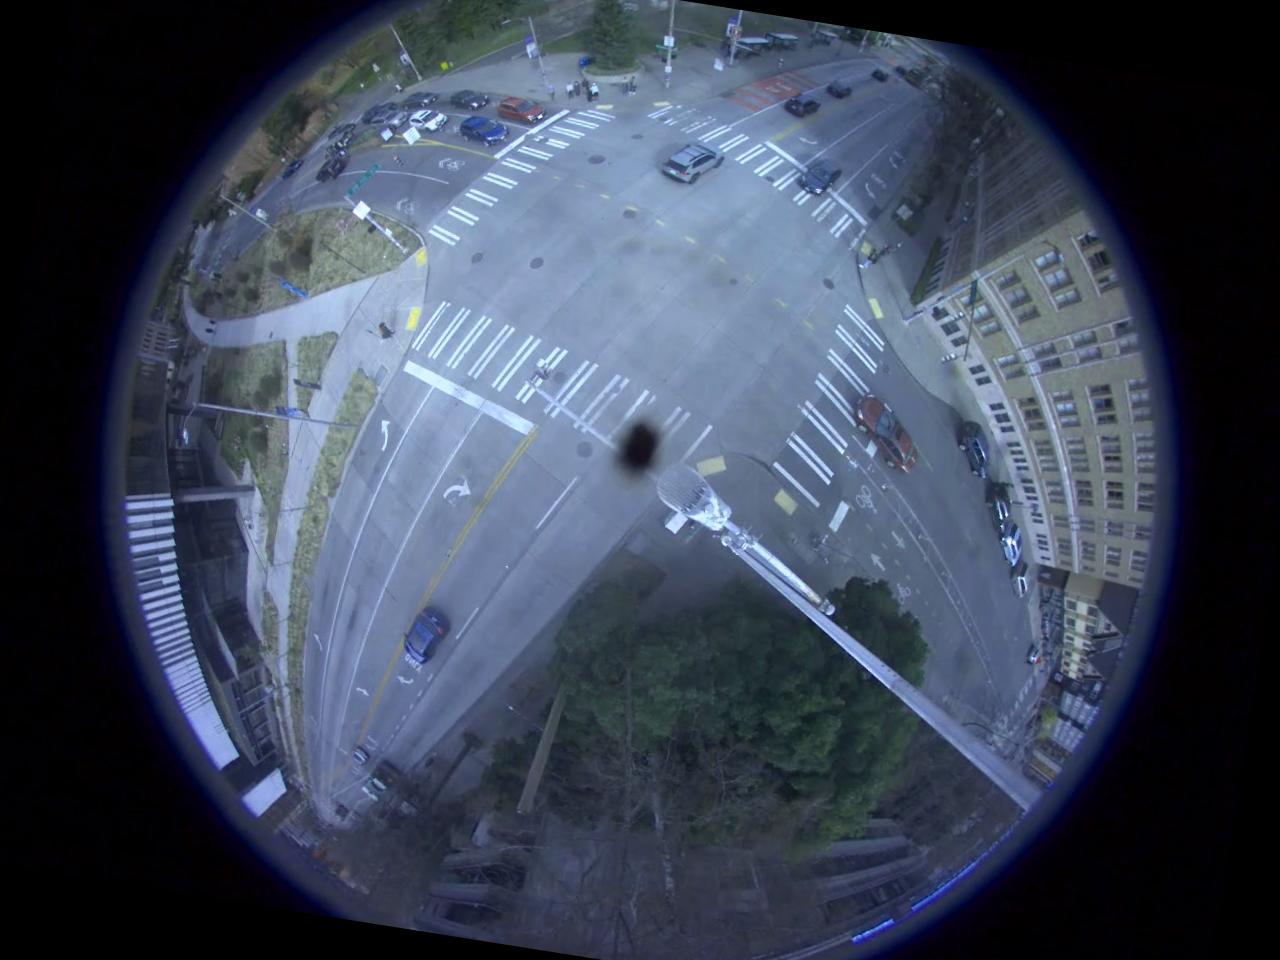bus: (360, 756, 404, 808)
car: (849, 394, 924, 470), (400, 602, 452, 666), (659, 136, 723, 188), (798, 156, 844, 202), (957, 421, 994, 474), (493, 94, 552, 126), (458, 111, 512, 145), (982, 484, 1015, 532), (446, 86, 492, 116), (366, 100, 408, 132), (996, 523, 1025, 566), (1004, 561, 1036, 599), (398, 86, 441, 112), (408, 105, 450, 131), (789, 90, 820, 118), (827, 76, 857, 102)
person: (374, 317, 397, 346), (625, 72, 641, 102), (859, 248, 880, 270), (586, 80, 602, 104), (616, 73, 630, 98), (877, 243, 892, 263), (578, 73, 590, 97), (564, 79, 576, 99), (582, 85, 594, 105), (572, 78, 582, 100)
